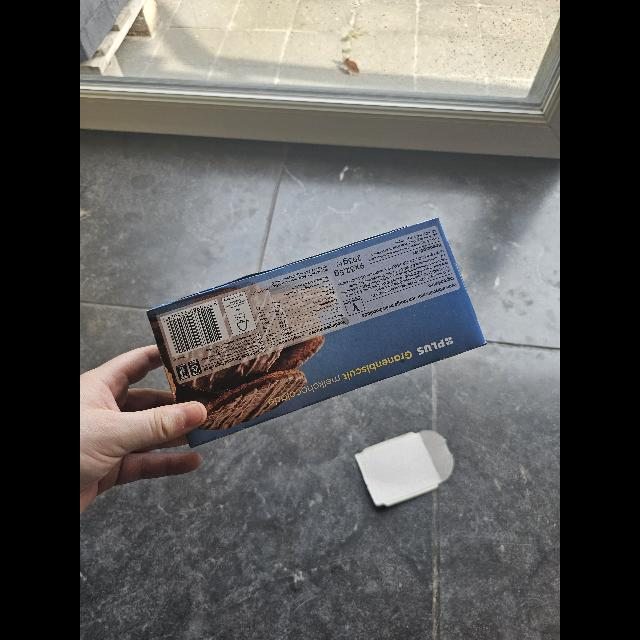Cardboard: (142, 216, 482, 444), (353, 432, 453, 506)
